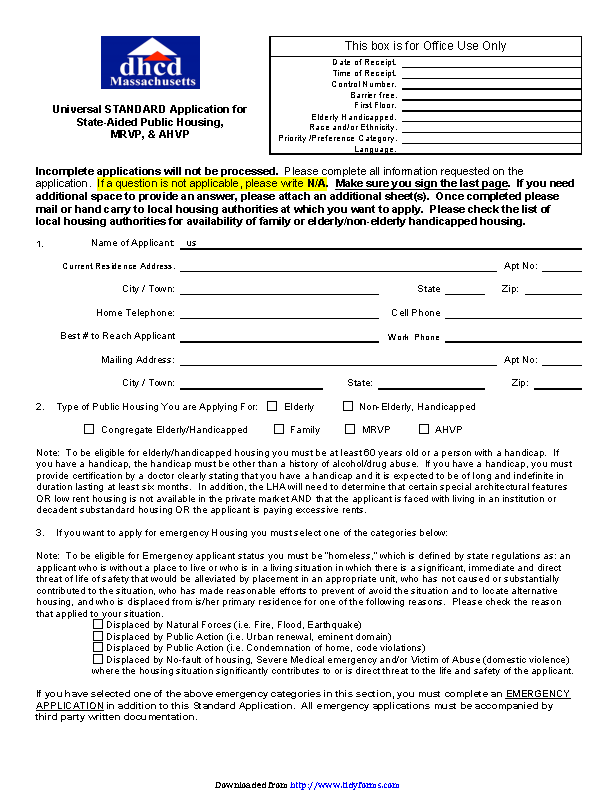checkbox: (344, 421, 356, 436), (92, 640, 105, 653), (266, 399, 278, 412), (273, 423, 286, 435), (418, 422, 430, 435), (83, 422, 95, 434), (342, 400, 354, 412), (92, 618, 104, 629), (92, 630, 104, 641), (92, 653, 104, 664)
textline: (197, 236, 584, 252), (178, 351, 498, 368), (178, 257, 500, 273), (179, 327, 380, 343), (178, 373, 325, 391), (179, 283, 382, 296), (178, 306, 379, 319), (402, 100, 580, 114), (400, 79, 580, 92), (444, 305, 583, 320), (444, 328, 583, 343), (399, 145, 580, 156), (400, 57, 580, 68), (401, 91, 580, 102), (400, 134, 579, 145), (401, 69, 580, 79), (401, 113, 580, 123), (375, 376, 486, 392), (401, 124, 580, 133), (525, 279, 583, 296), (532, 375, 584, 391), (541, 352, 583, 366), (443, 282, 487, 295), (540, 259, 583, 272)
